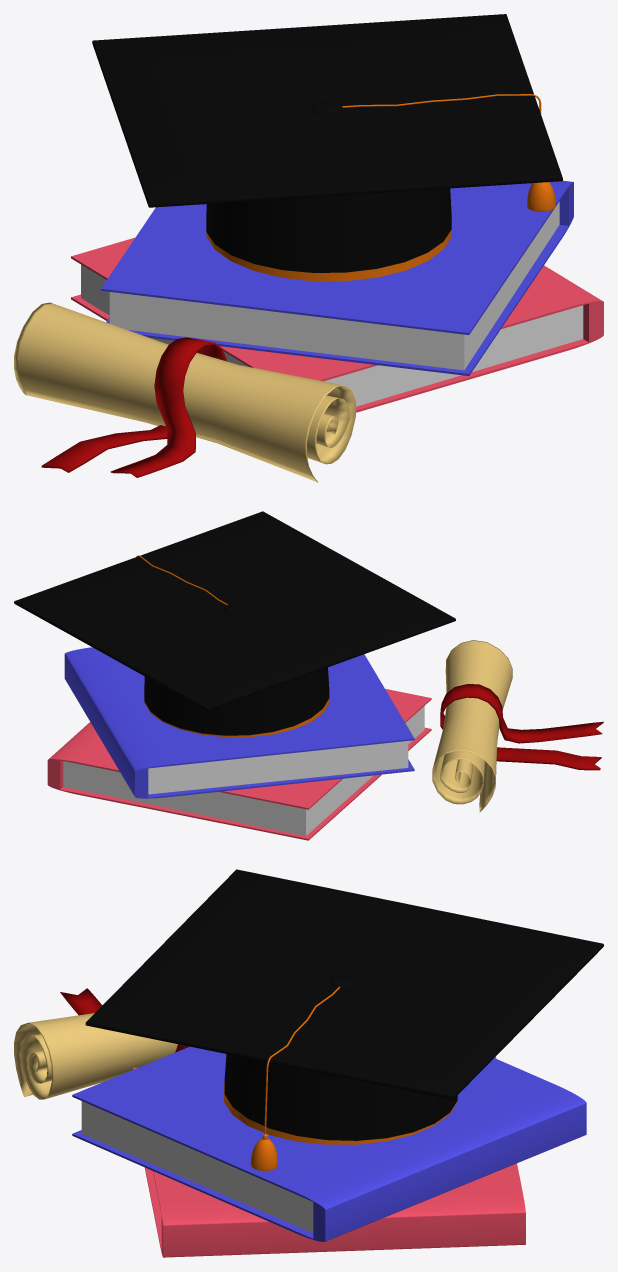
The model's file is graduation.glb.
The picture shows the model from 3 angles, top to bottom: view 1: azimuth 30°, elevation 25°; view 2: azimuth 150°, elevation 25°; view 3: azimuth 270°, elevation 25°; orthographic projection. The views are drawn at different scales.
Parts seen in each view (by area): view 1: Cube_2, Cube.001, Object_7, Cube, Object_6, Sphere.001_5; view 2: Cube_2, Cube.001, Cube, Object_7, Object_6; view 3: Cube_2, Cube.001, Cube, Object_7, Sphere.001_5, Object_6.
Boxes of the visible parts, x1,y1,x2,y2 form: Cube_2: [92, 14, 562, 281]; Cube.001: [101, 180, 573, 375]; Object_7: [14, 302, 355, 482]; Cube: [71, 237, 603, 412]; Object_6: [41, 337, 226, 477]; Sphere.001_5: [527, 182, 555, 211]; Cube_2: [14, 511, 455, 737]; Cube.001: [64, 647, 414, 798]; Cube: [47, 689, 431, 840]; Object_7: [432, 640, 512, 812]; Object_6: [440, 684, 603, 770]; Cube_2: [85, 869, 603, 1144]; Cube.001: [72, 1046, 586, 1241]; Cube: [133, 1056, 525, 1257]; Object_7: [14, 1013, 177, 1099]; Sphere.001_5: [250, 1134, 277, 1170]; Object_6: [60, 988, 189, 1052].
Bounding box in the file's own units: 2.55 × 0.8419 × 2.21.
